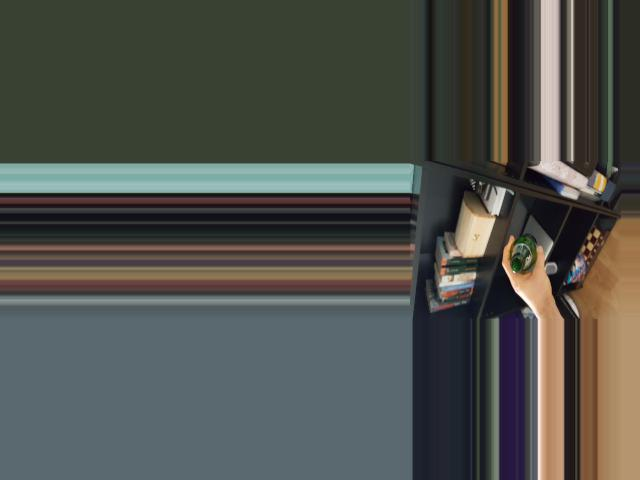beer: (511, 234, 538, 273)
